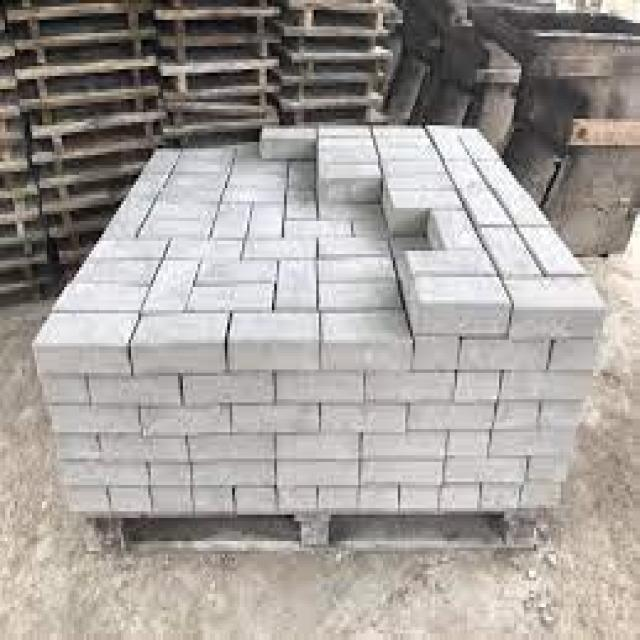bricks: (35, 125, 603, 511)
